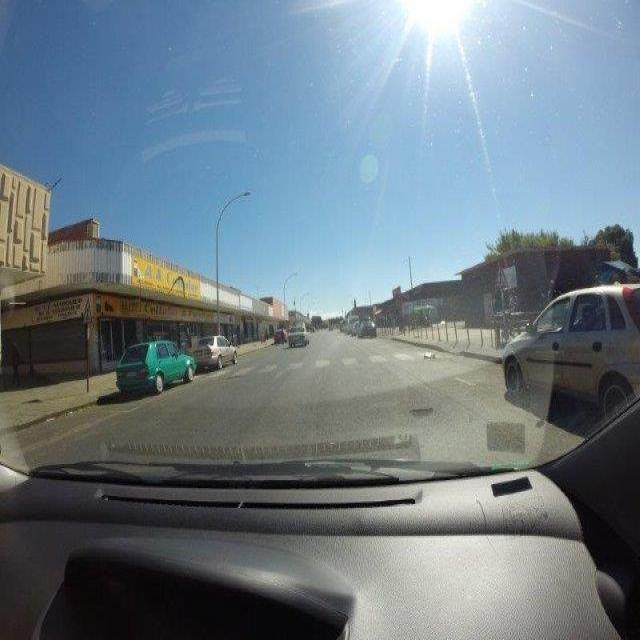lubang: (407, 402, 436, 418)
